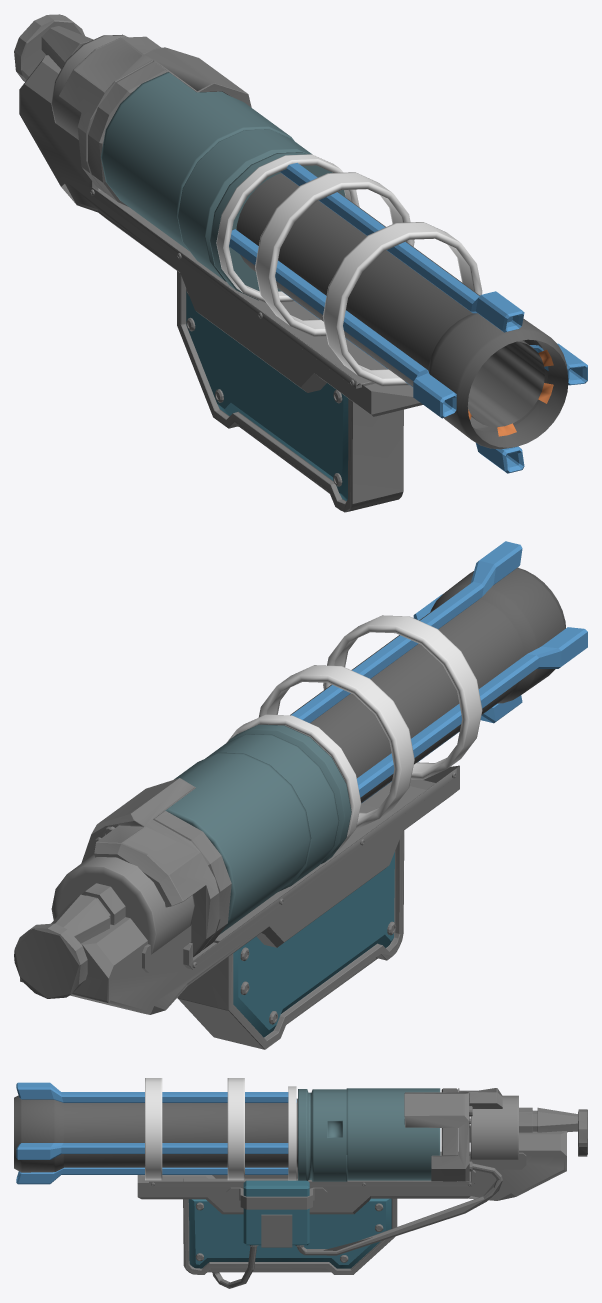
The model's file is Weapon 2.fbx.
3 renders of one model, top to bottom at view 1: azimuth 30°, elevation 25°; view 2: azimuth 150°, elevation 25°; view 3: azimuth 270°, elevation 25°, orthographic. The views are drawn at different scales.
Visible parts, largest first — view 1: Outer Body, Main Canal, Cylinder.002, Cylinder, large Box, Middle Detail, Ornaments.001, Ornaments.002, Back Cyli., Outer Body.005, ornaments, Ornaments; view 2: Outer Body, Main Canal, Cylinder, Cylinder.002, large Box, Middle Detail, Back Cyli., Ornaments.001, Ornaments.002, Outer Body.005; view 3: Outer Body, Main Canal, Cylinder, large Box, Cylinder.002, Middle Detail, Ornaments.001, Ornaments, Back Cyli., Small box, ornaments, Outer Body.005.
Boxes of the visible parts, left/top/right/bottom form: Outer Body: left=14, top=14, right=422, bottom=512; Main Canal: left=236, top=173, right=568, bottom=449; Cylinder.002: left=216, top=154, right=482, bottom=386; Cylinder: left=101, top=72, right=294, bottom=251; large Box: left=186, top=291, right=348, bottom=501; Middle Detail: left=177, top=129, right=345, bottom=300; Ornaments.001: left=280, top=163, right=524, bottom=332; Ornaments.002: left=229, top=229, right=456, bottom=418; Back Cyli.: left=51, top=34, right=127, bottom=139; Outer Body.005: left=41, top=26, right=93, bottom=68; ornaments: left=282, top=291, right=524, bottom=473; Ornaments: left=530, top=343, right=587, bottom=385; Outer Body: left=14, top=765, right=459, bottom=1049; Main Canal: left=290, top=567, right=565, bottom=802; Cylinder: left=165, top=752, right=311, bottom=934; Cylinder.002: left=226, top=615, right=482, bottom=851; large Box: left=233, top=852, right=394, bottom=1037; Middle Detail: left=205, top=724, right=351, bottom=891; Back Cyli.: left=51, top=854, right=194, bottom=954; Ornaments.001: left=291, top=541, right=522, bottom=722; Ornaments.002: left=357, top=627, right=587, bottom=797; Outer Body.005: left=51, top=883, right=125, bottom=943; Outer Body: left=137, top=1088, right=587, bottom=1288; Main Canal: left=14, top=1095, right=297, bottom=1172; Cylinder: left=346, top=1088, right=440, bottom=1180; large Box: left=188, top=1198, right=391, bottom=1268; Cylinder.002: left=145, top=1078, right=296, bottom=1180; Middle Detail: left=298, top=1089, right=347, bottom=1181; Ornaments.001: left=16, top=1082, right=296, bottom=1102; Ornaments: left=16, top=1143, right=288, bottom=1159; Back Cyli.: left=470, top=1095, right=518, bottom=1159; Small box: left=243, top=1180, right=309, bottom=1245; ornaments: left=16, top=1167, right=288, bottom=1184; Outer Body.005: left=519, top=1107, right=577, bottom=1132.
Bounding box in the file's own units: 77.39 × 158 × 415.
